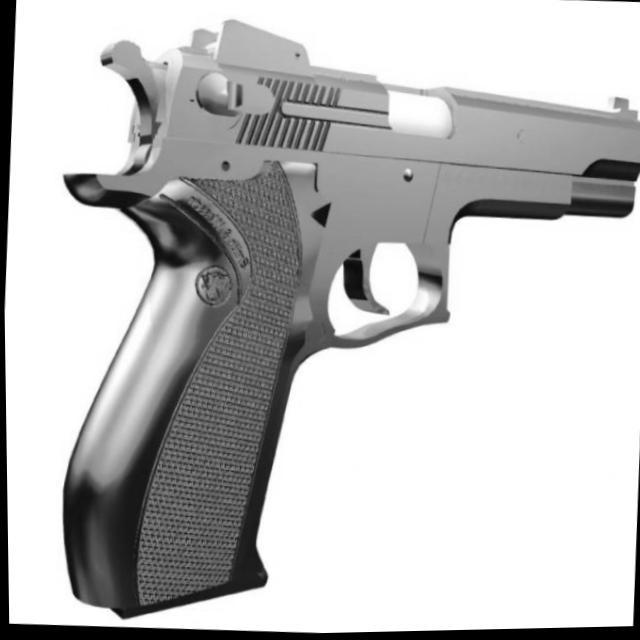weapon: (37, 3, 640, 640)
